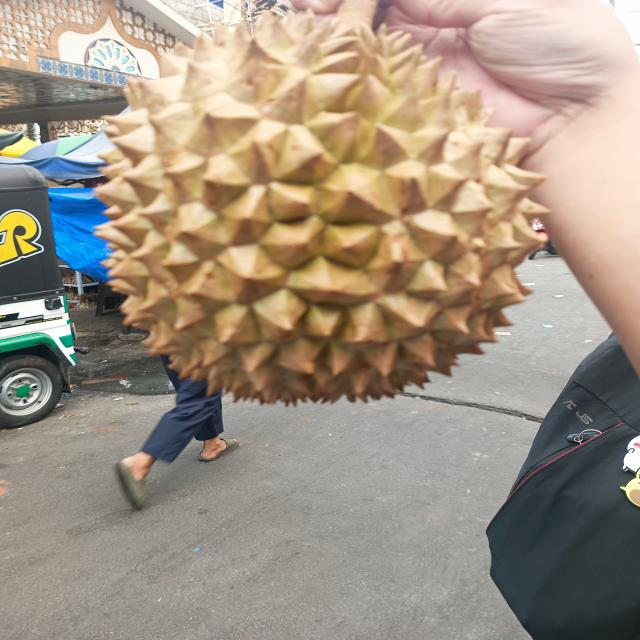mature: (86, 8, 549, 407)
